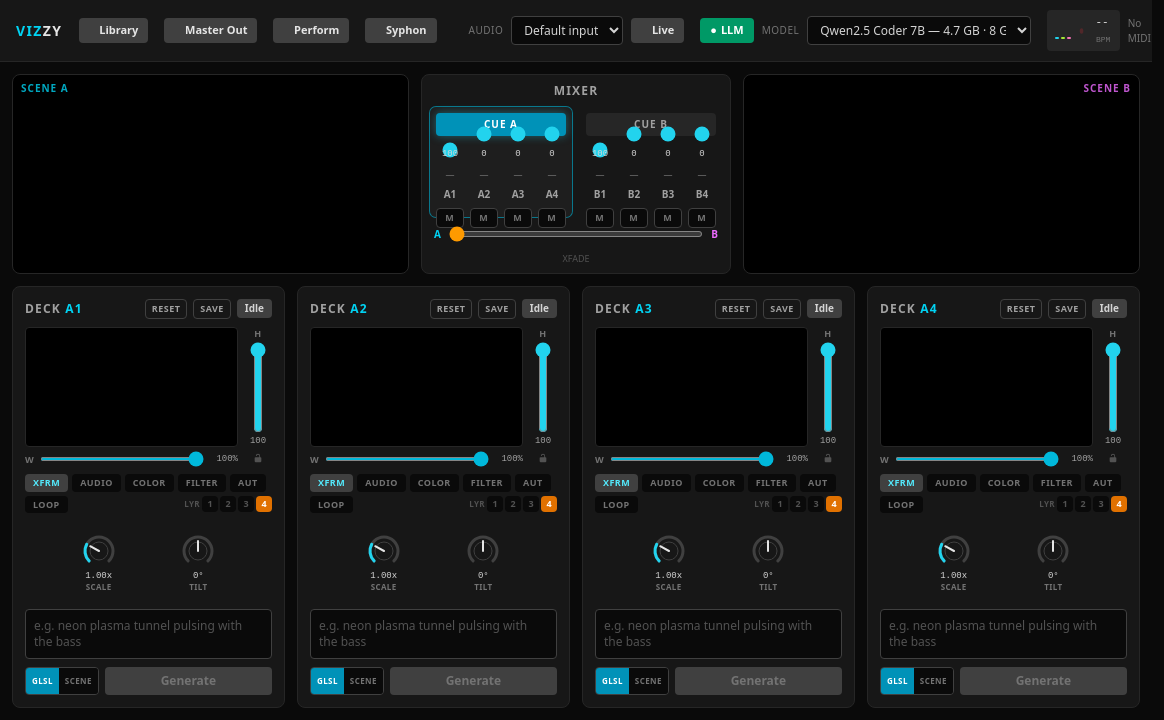
Test: shader generation › enqueues the prompt for the cued slot and stages the parsed patch
Type "liquid chrome" into the 2nd text box with placeholder "e.g. neon plasma tunnel pulsing with the bass". click: {"x": 434, "y": 634}
box: [310,609,557,659]
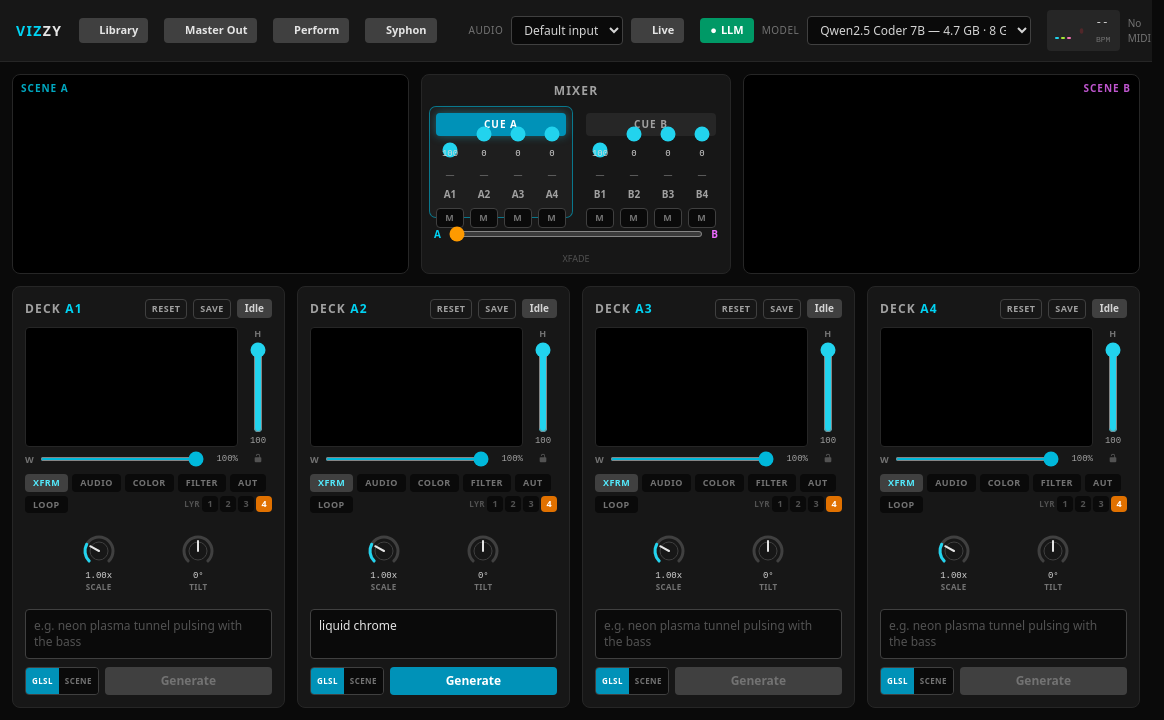
Click the 2nd button "Generate". click: {"x": 473, "y": 681}
box: [390,667,557,695]
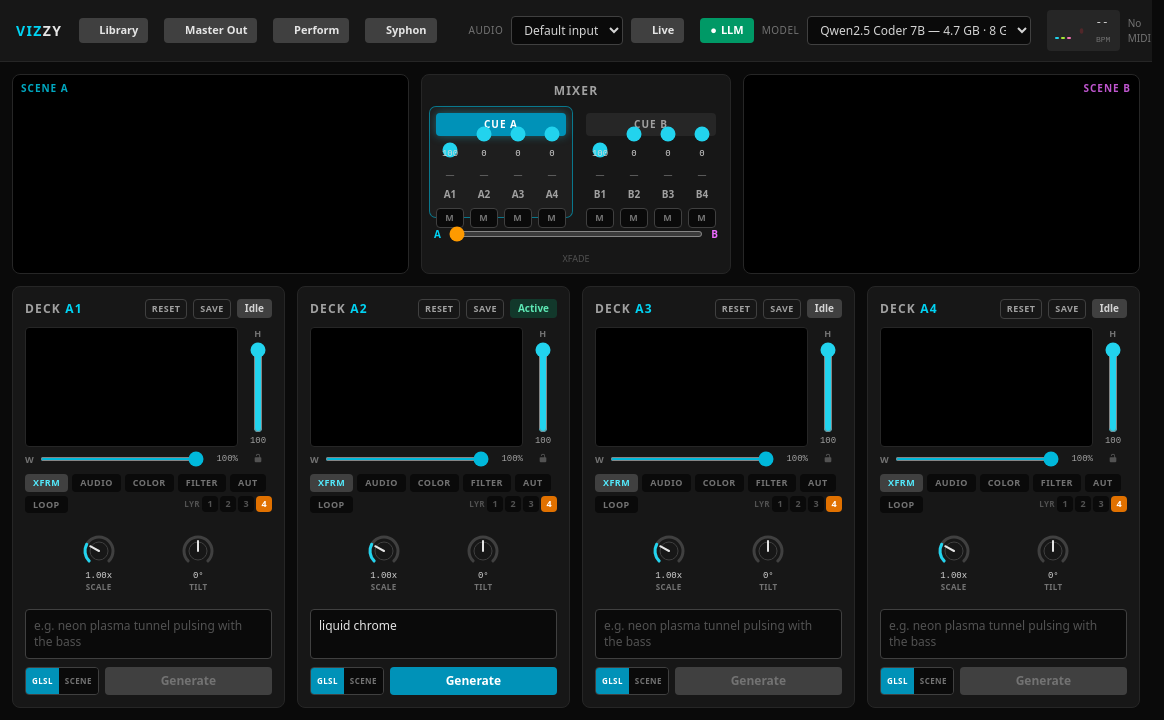
Expected: the text "Active" is shown, [510,299,557,318]
